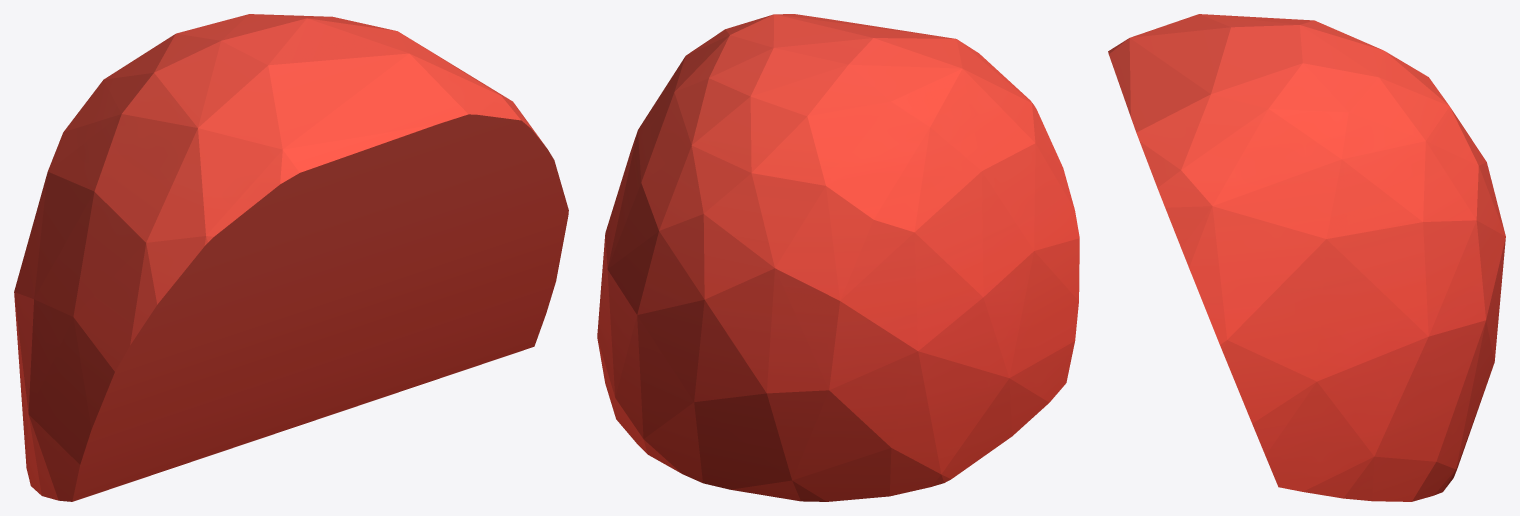
Rendered from HeartPart_4.fbx.
3 renders of one model, left to right at view 1: azimuth 30°, elevation 25°; view 2: azimuth 150°, elevation 25°; view 3: azimuth 270°, elevation 25°, orthographic. The views are drawn at different scales.
Visible parts, largest first — view 1: HeartPart_4; view 2: HeartPart_4; view 3: HeartPart_4.
Part boxes in pixels (box(x1,y1,x2,y2)): HeartPart_4: box(14, 14, 568, 501); HeartPart_4: box(597, 14, 1079, 501); HeartPart_4: box(1108, 14, 1505, 501).
Bounding box in the file's own units: 49.31 × 42.02 × 37.02.
1 material, 1 textured.
